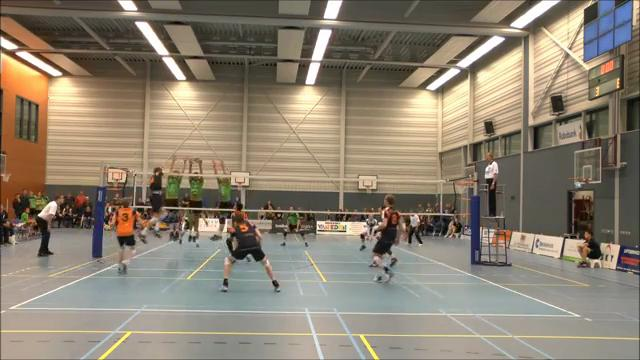Attack: (137, 165, 172, 244)
Block: (165, 149, 188, 245), (211, 156, 236, 244), (186, 151, 206, 248)
Player: (221, 214, 279, 291), (373, 194, 401, 281), (113, 200, 141, 273), (281, 206, 307, 246), (178, 194, 192, 243), (360, 214, 377, 250), (226, 224, 232, 253)
ball: (192, 156, 199, 164)
